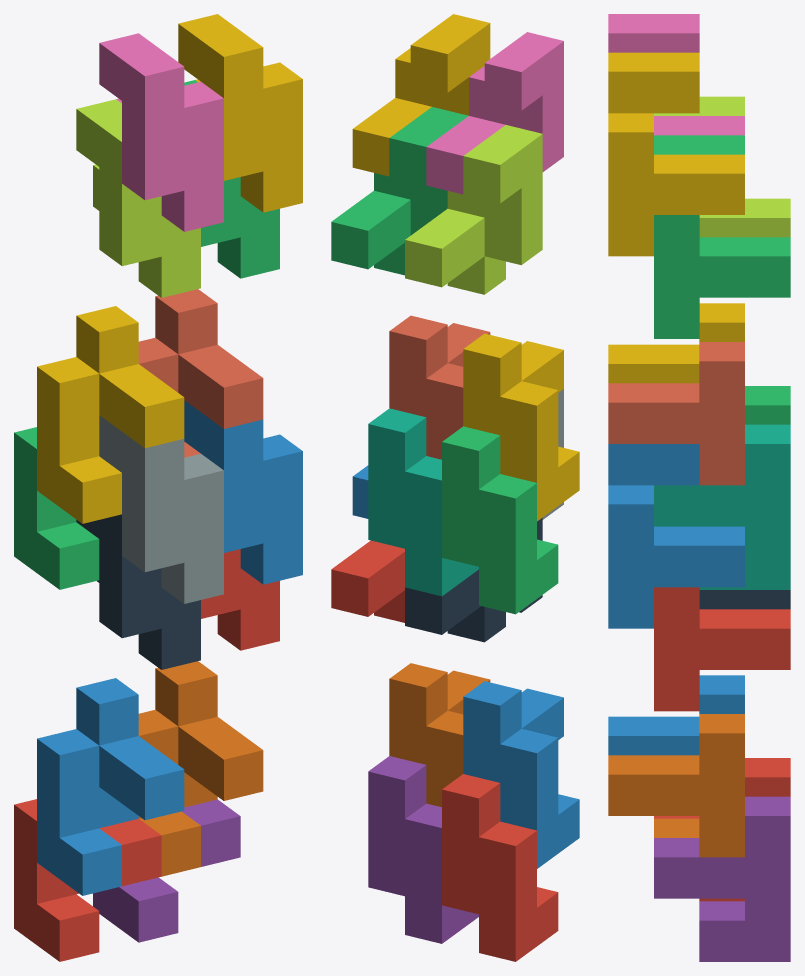
The model's file is tiling.obj.
The picture shows the model from 3 angles, left to right: view 1: azimuth 30°, elevation 25°; view 2: azimuth 150°, elevation 25°; view 3: azimuth 270°, elevation 25°; orthographic projection. The views are drawn at different scales.
Parts seen in each view (by area): view 1: copy_1_domain_2, copy_1_domain_4, copy_2_domain_4, copy_2_domain_2, copy_2_domain_8, copy_1_domain_6, copy_2_domain_6, copy_2_domain_3, copy_1_domain_8, copy_1_domain_1, copy_2_domain_1, copy_1_domain_3 (+3 smaller); view 2: copy_2_domain_3, copy_1_domain_1, copy_1_domain_3, copy_1_domain_4, copy_1_domain_2, copy_1_domain_7, copy_1_domain_5, copy_2_domain_4, copy_2_domain_7, copy_2_domain_8, copy_1_domain_8, copy_1_domain_6 (+3 smaller); view 3: copy_2_domain_8, copy_2_domain_6, copy_1_domain_5, copy_1_domain_6, copy_2_domain_7, copy_1_domain_8, copy_1_domain_7, copy_2_domain_5, copy_1_domain_2, copy_1_domain_4, copy_2_domain_4, copy_2_domain_3 (+3 smaller).
Part boxes in pixels (left/top/right/bottom): copy_1_domain_2: left=37, top=678, right=184, bottom=895; copy_1_domain_4: left=37, top=306, right=184, bottom=523; copy_2_domain_4: left=99, top=33, right=223, bottom=231; copy_2_domain_2: left=99, top=415, right=223, bottom=603; copy_2_domain_8: left=178, top=14, right=302, bottom=212; copy_1_domain_6: left=138, top=661, right=263, bottom=876; copy_2_domain_6: left=184, top=400, right=302, bottom=584; copy_2_domain_3: left=76, top=99, right=200, bottom=297; copy_1_domain_8: left=138, top=289, right=263, bottom=457; copy_1_domain_1: left=14, top=799, right=161, bottom=961; copy_2_domain_1: left=76, top=514, right=200, bottom=669; copy_1_domain_3: left=14, top=427, right=99, bottom=589; copy_2_domain_3: left=405, top=125, right=542, bottom=294; copy_1_domain_1: left=442, top=774, right=558, bottom=961; copy_1_domain_3: left=442, top=426, right=558, bottom=614; copy_1_domain_4: left=463, top=333, right=579, bottom=521; copy_1_domain_2: left=463, top=681, right=579, bottom=868; copy_1_domain_7: left=368, top=408, right=478, bottom=596; copy_1_domain_5: left=368, top=756, right=478, bottom=943; copy_2_domain_4: left=426, top=32, right=563, bottom=194; copy_2_domain_7: left=331, top=107, right=468, bottom=275; copy_2_domain_8: left=352, top=14, right=490, bottom=176; copy_1_domain_8: left=389, top=315, right=490, bottom=459; copy_1_domain_6: left=389, top=663, right=490, bottom=807; copy_2_domain_8: left=608, top=52, right=744, bottom=256; copy_2_domain_6: left=608, top=444, right=744, bottom=628; copy_1_domain_5: left=654, top=796, right=790, bottom=961; copy_1_domain_6: left=608, top=714, right=744, bottom=857; copy_2_domain_7: left=654, top=135, right=790, bottom=338; copy_1_domain_8: left=608, top=342, right=744, bottom=485; copy_1_domain_7: left=654, top=424, right=790, bottom=589; copy_2_domain_5: left=654, top=587, right=790, bottom=711; copy_1_domain_2: left=608, top=675, right=744, bottom=755; copy_1_domain_4: left=608, top=303, right=744, bottom=383; copy_2_domain_4: left=608, top=14, right=744, bottom=135; copy_2_domain_3: left=654, top=96, right=790, bottom=237.
Bounding box in the file's own units: 5 × 22 × 4.
